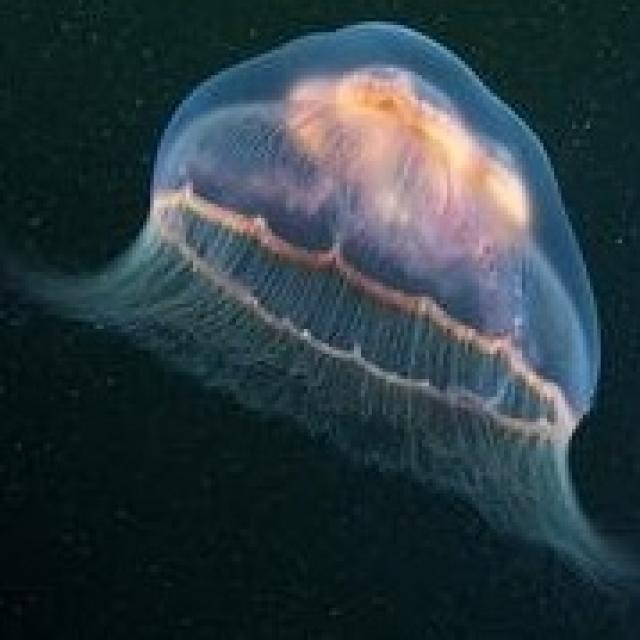Box-jellyfish: (0, 17, 636, 604)
